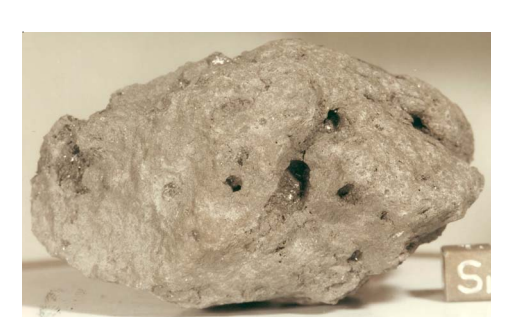Basalt: (35, 54, 494, 298), (246, 127, 440, 244)
